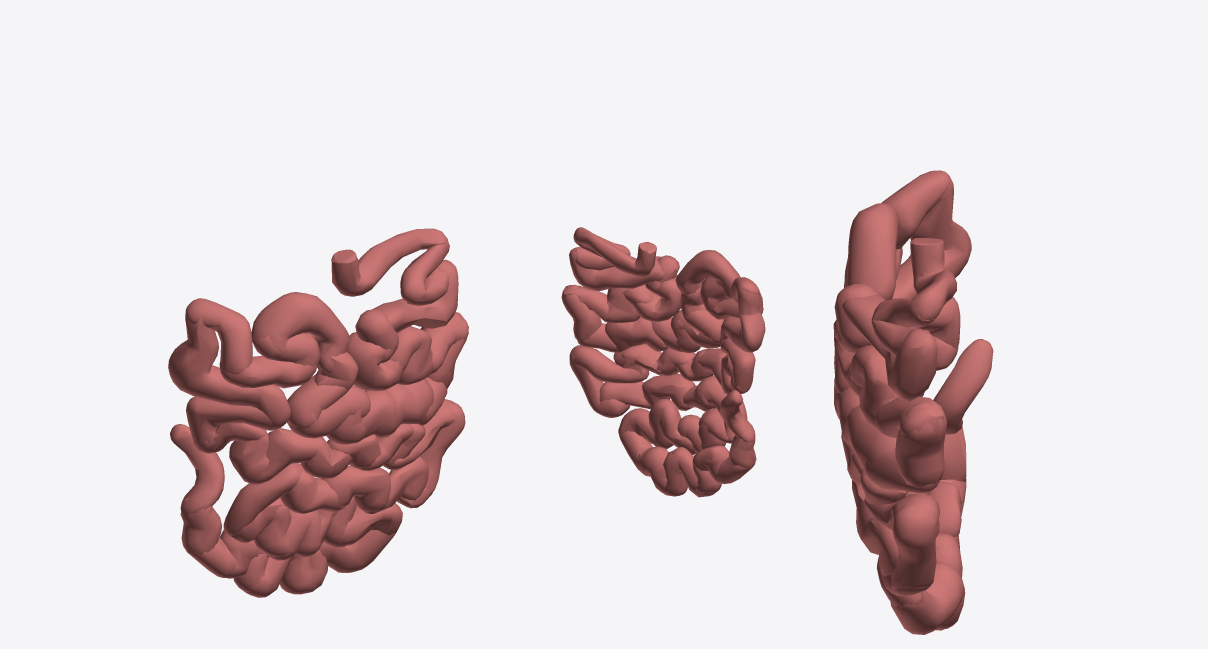
Rendered from ingichka.glb.
3 views of the same model, side by side, from view 1: azimuth 30°, elevation 25°; view 2: azimuth 150°, elevation 25°; view 3: azimuth 270°, elevation 25° (orthographic). The views are drawn at different scales.
Parts seen in each view (by area): view 1: ingichka; view 2: ingichka; view 3: ingichka.
Boxes of the visible parts, box(x1,y1,x2,y2) form: ingichka: box(168, 228, 468, 597); ingichka: box(561, 227, 765, 497); ingichka: box(833, 170, 993, 634).
Bounding box in the file's own units: 0.2441 × 0.4258 × 0.191.
